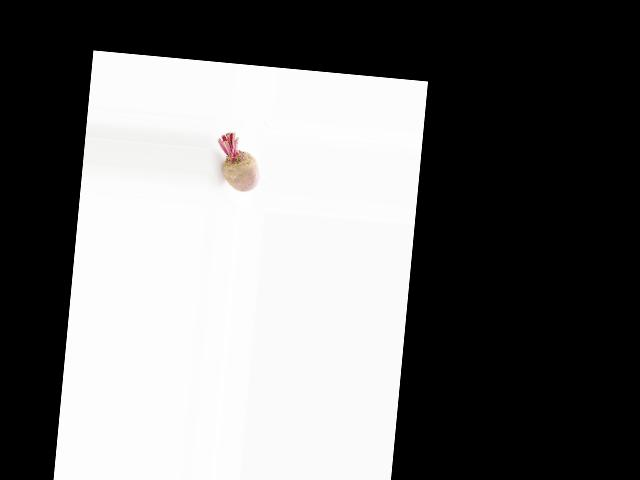beet: (212, 131, 263, 193)
